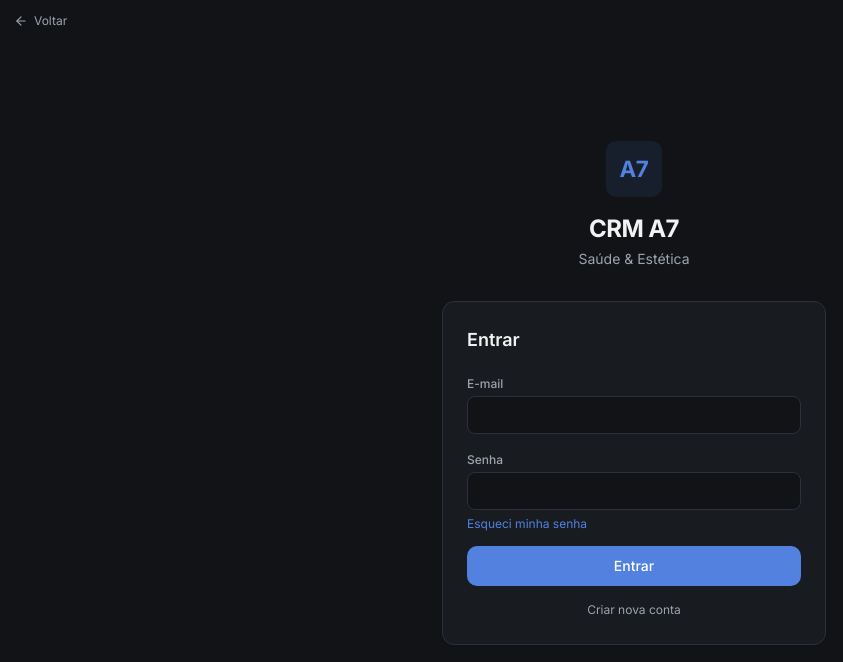
Test case: tela de login › muitos pedidos seguidos: avisa para esperar
Click the button "Esqueci minha senha".
click(527, 524)  # box [467,516,587,532]
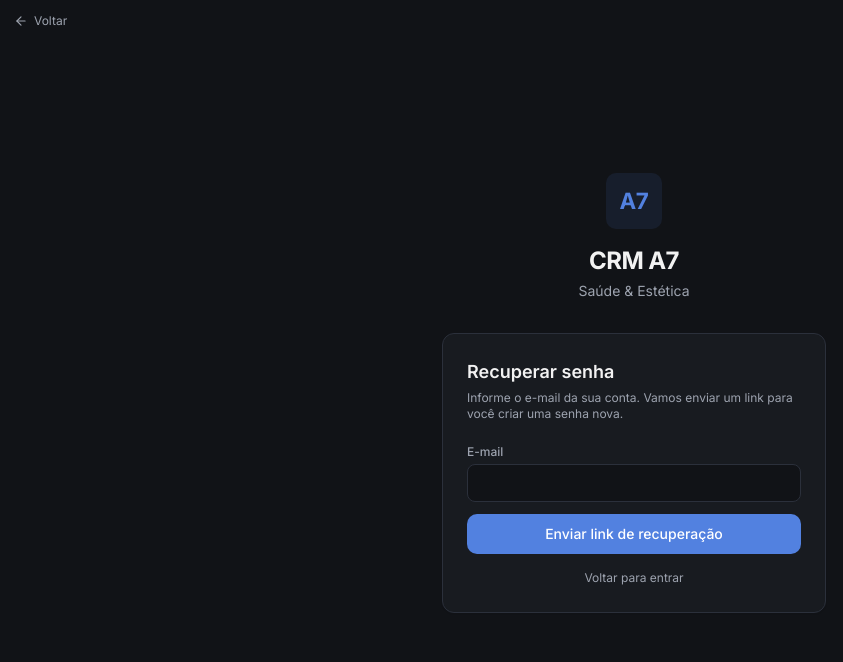
Type "dono@x.com" into the field labelled "E-mail".
click(634, 483); type("dono@x.com")  # box [467,464,801,502]
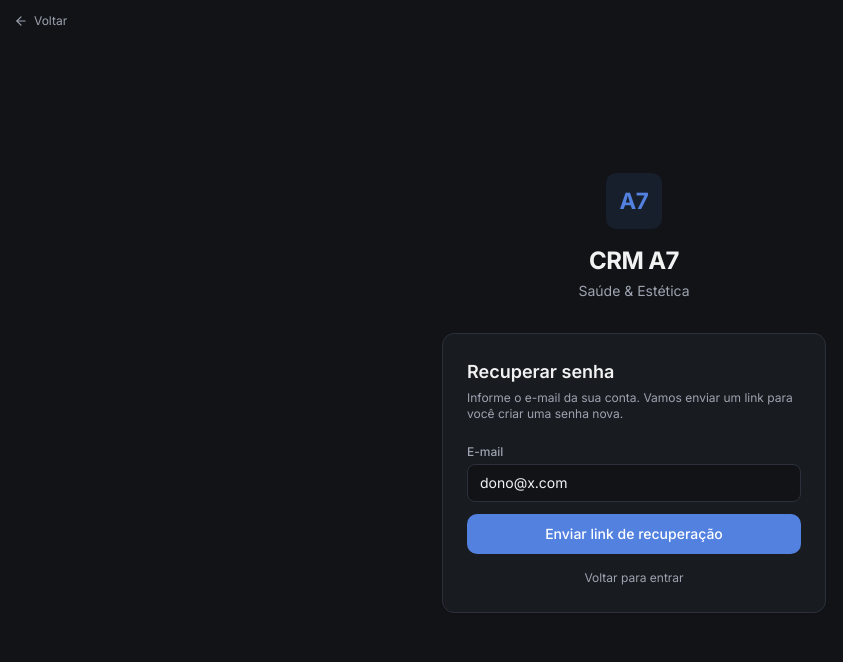
Click the button "Enviar link de recuperação".
click(634, 534)  # box [467,514,801,554]
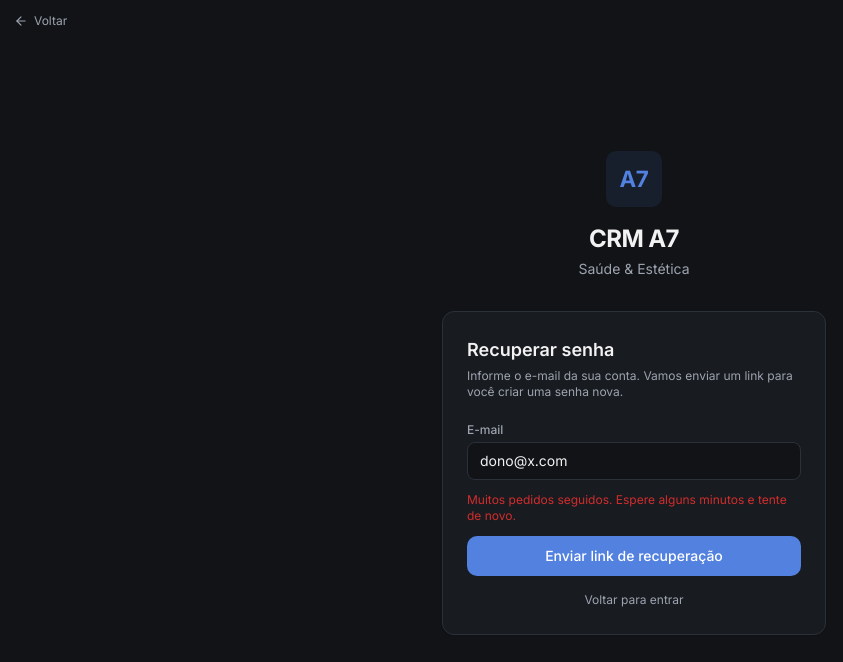
Now the message shows "Espere alguns minutos", box [467,492,787,523]
